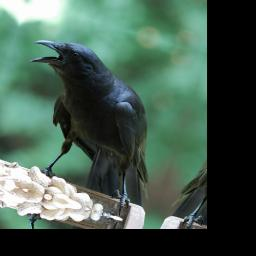Crow: (0, 30, 187, 222)
